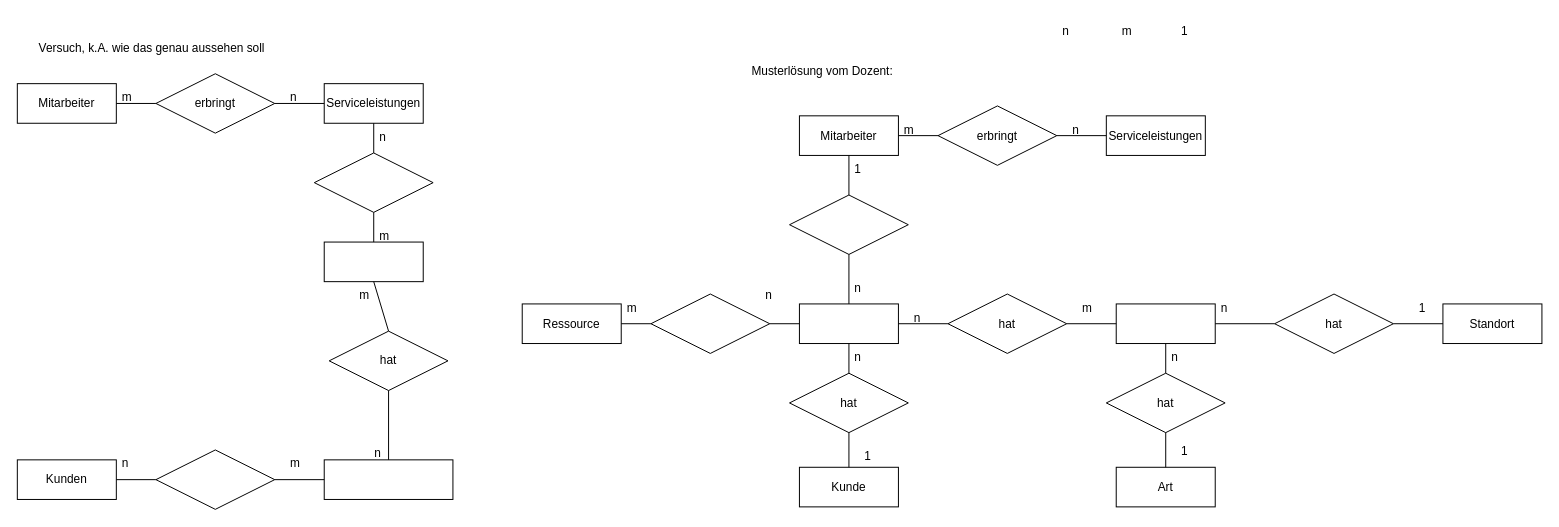
Some shapes in this 1559 by 527 pixel diagram are drawn without their labels. The centre of each missing label's shape, as x and y in pixels:
"Anforderungen" belongs at point 373,261.
"beträut" belongs at point 848,224.
"buchen Räumen" belongs at point 215,479.
"Buchung" belongs at point 848,323.
"Buchungsbestätigung" belongs at point 388,479.
"erfüllt" belongs at point 373,182.
"gehört zu" belongs at point 710,323.
"Raum" belongs at point 1165,323.
